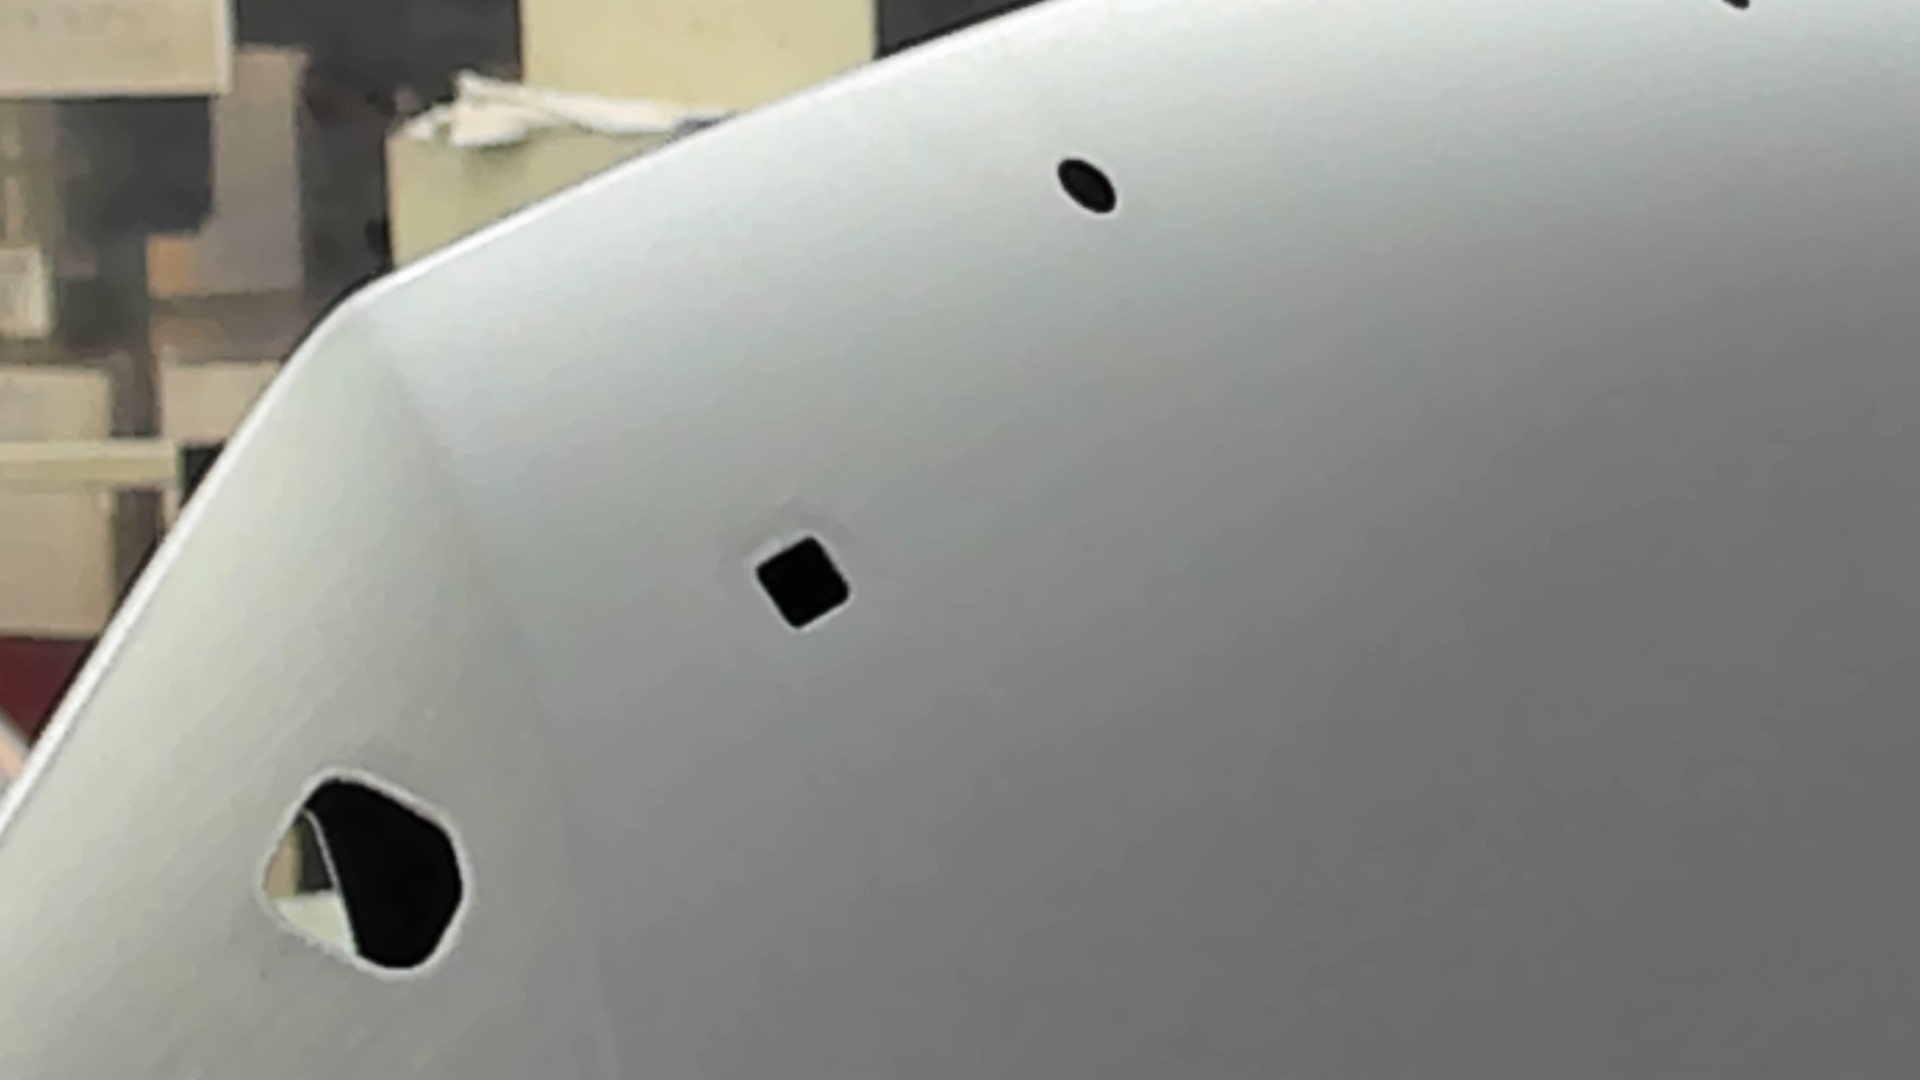chico: (1052, 154, 1120, 218), (1716, 1, 1756, 15)
grande: (251, 769, 469, 982)
mediano: (748, 531, 858, 633)
